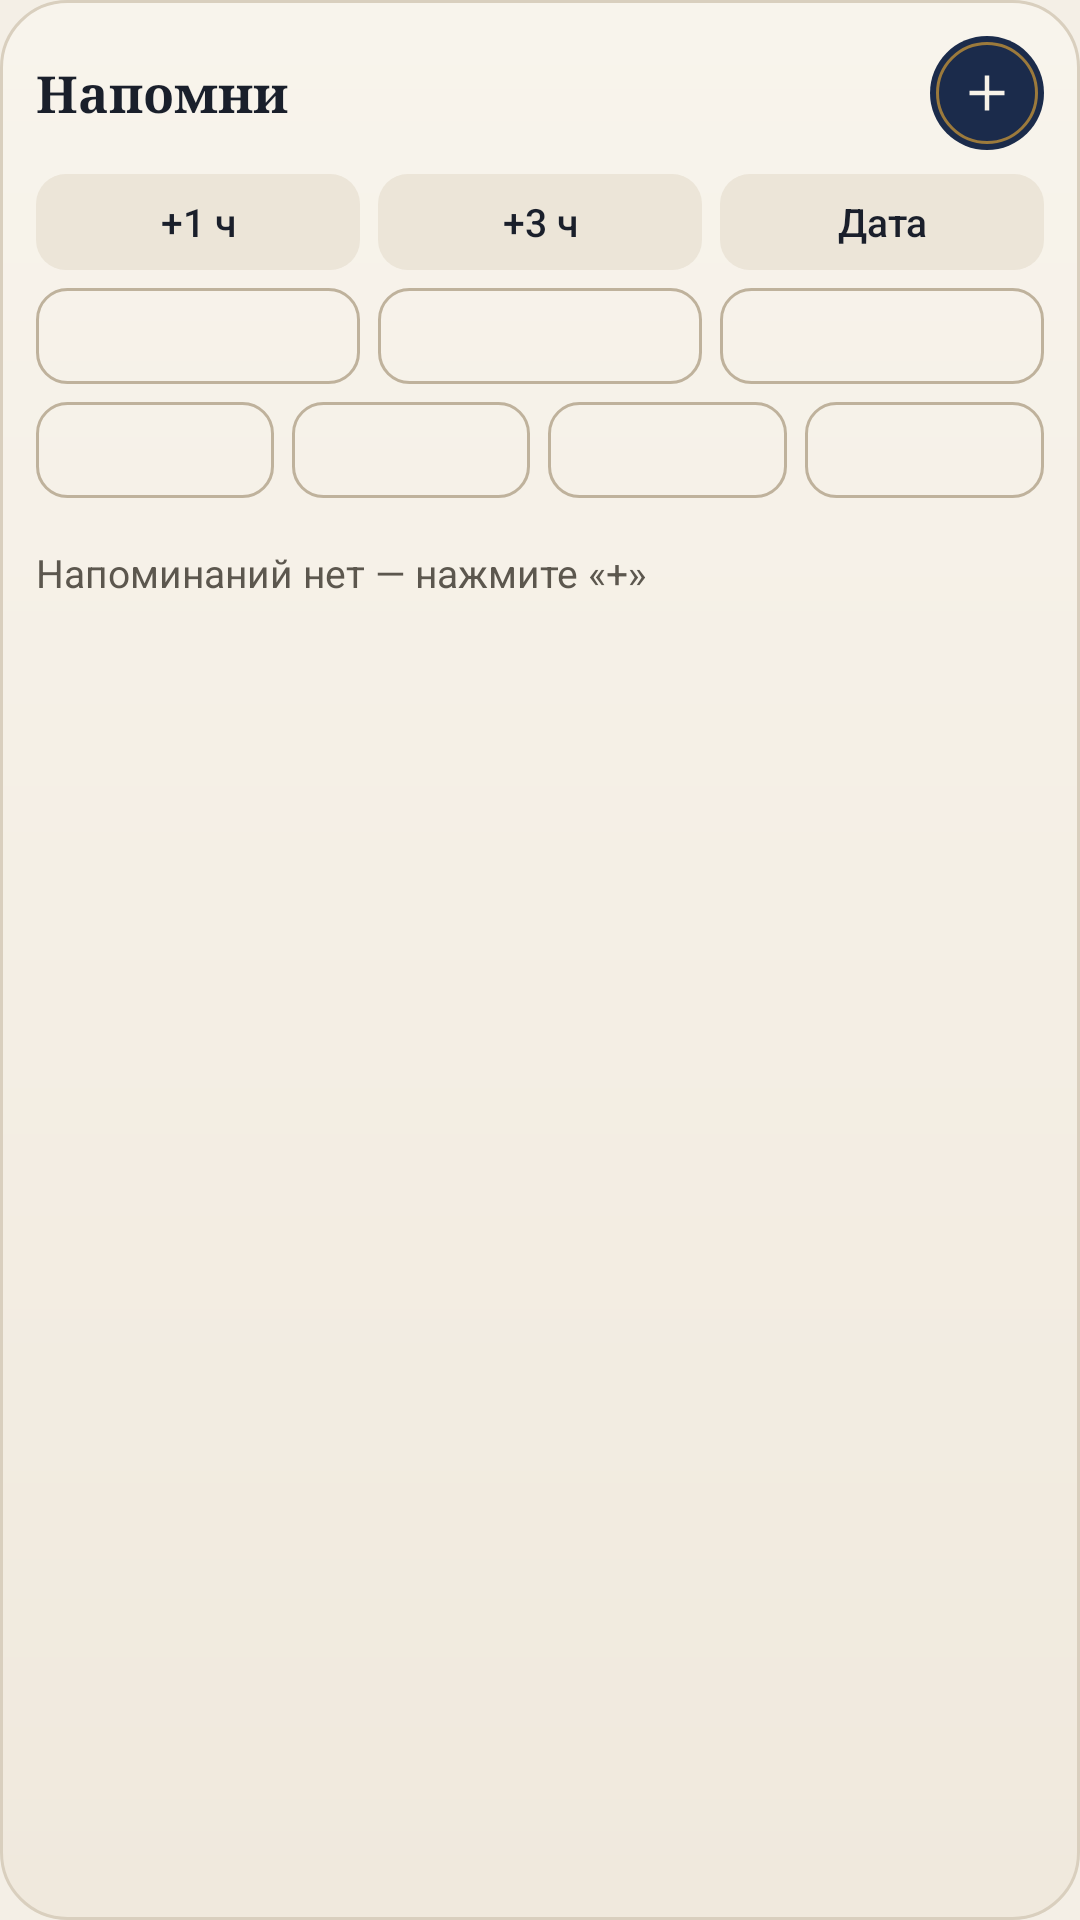

Screen size 1080w x 1920h. Icon name, then its box in pixels as rect(x1, y1, x2, y2):
Новое напоминание: rect(930, 36, 1044, 150)
